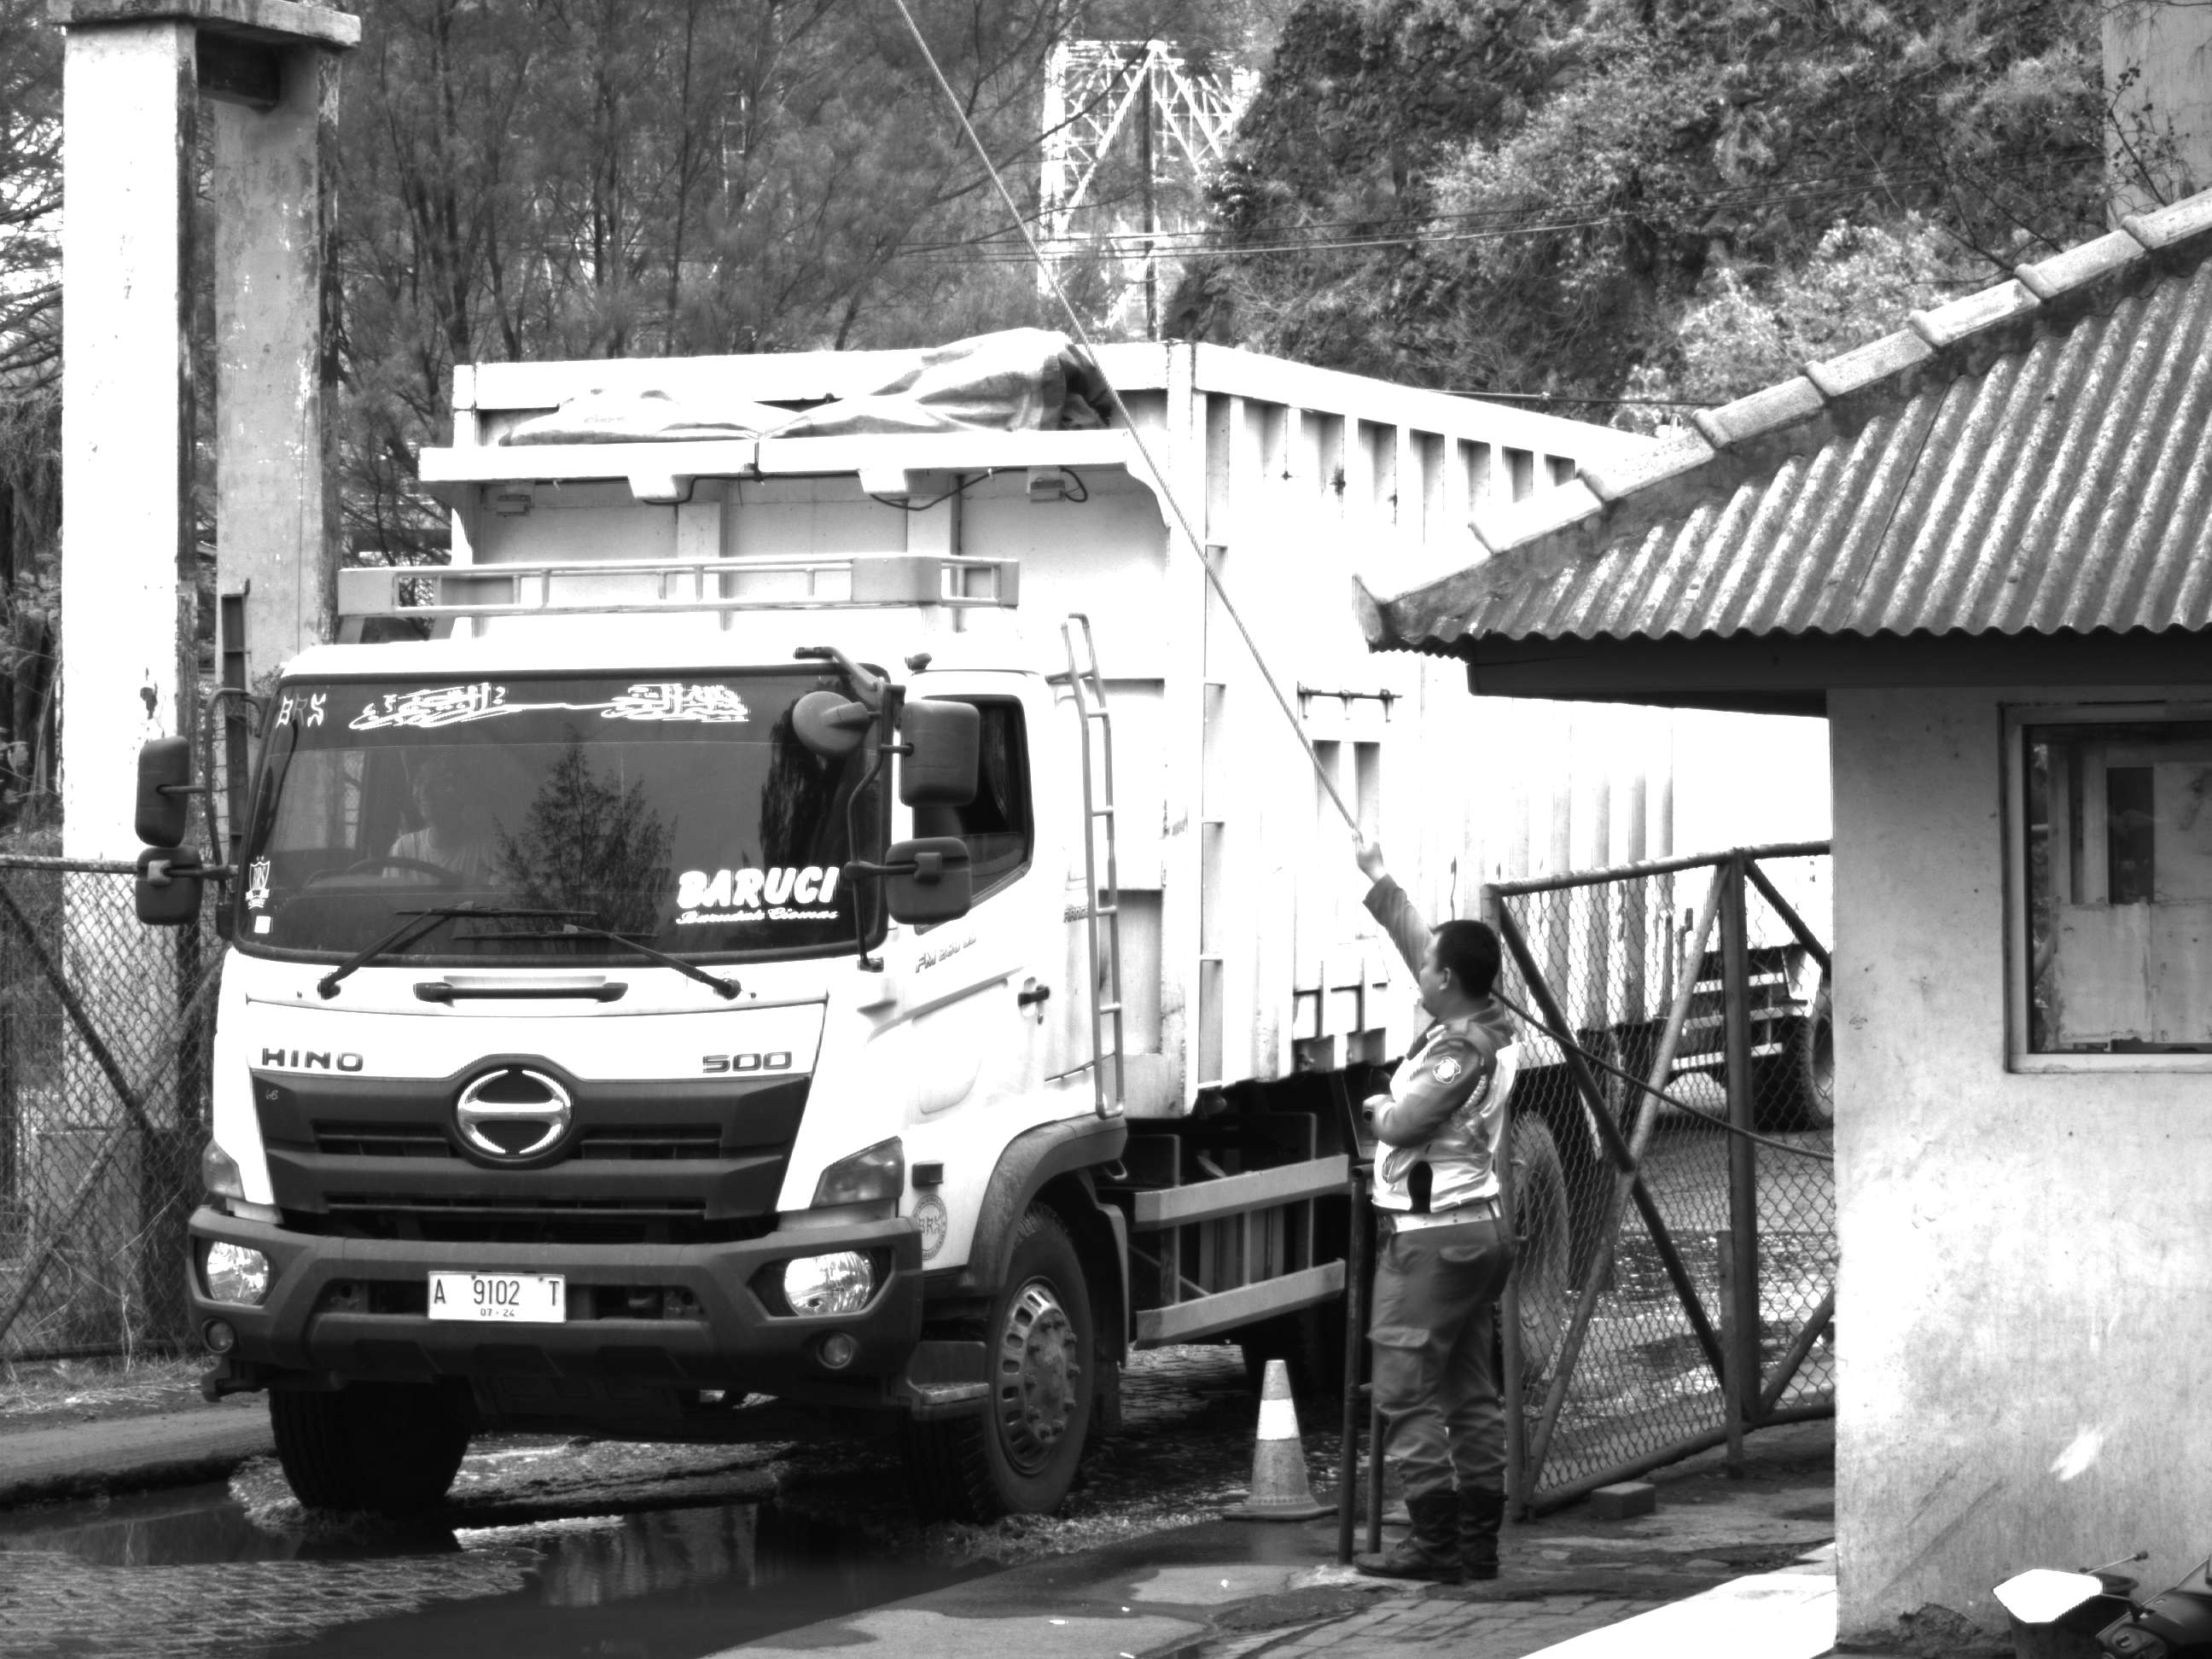day_truck_front: (121, 505, 1112, 1528)
plate: (423, 1270, 564, 1326)
